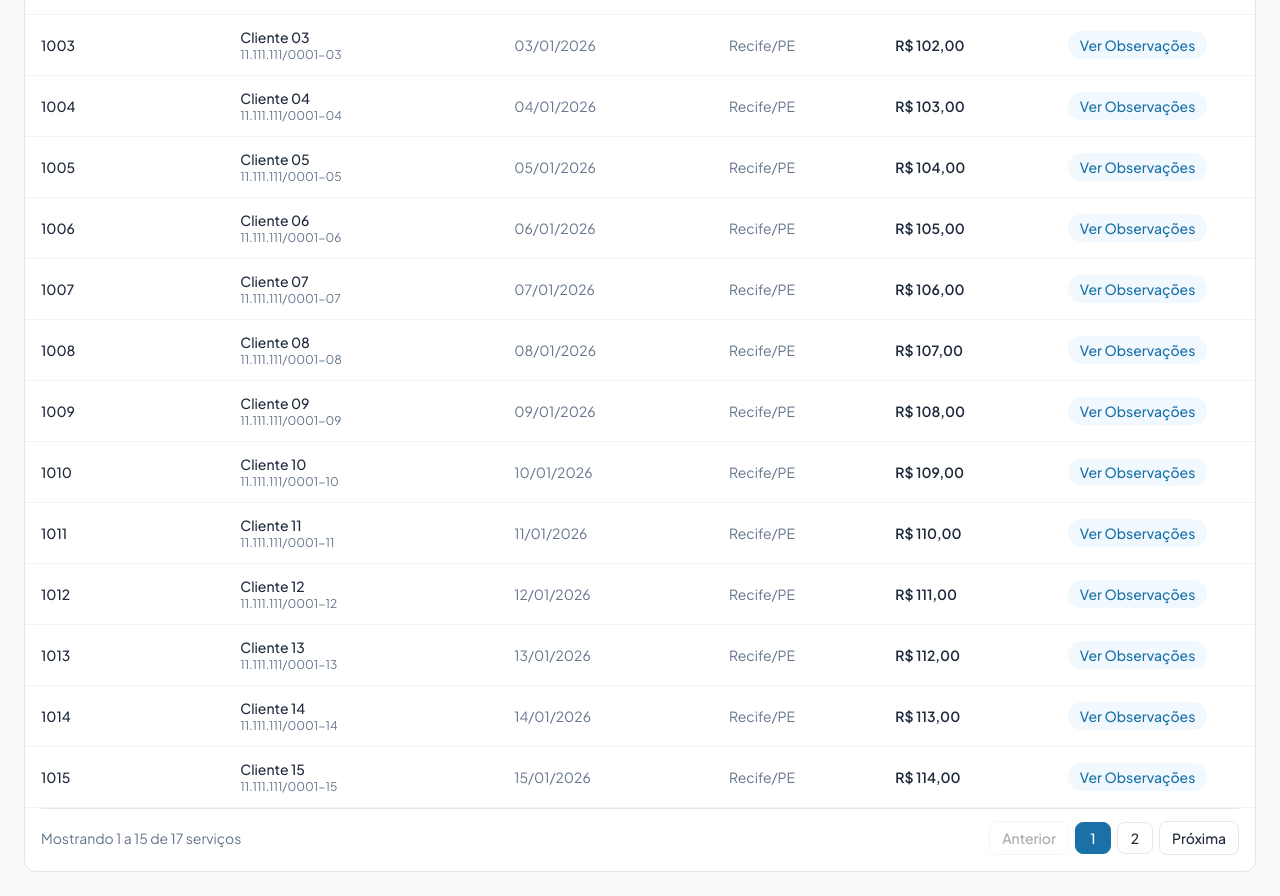
paginacao em Servicos › Proximo leva a segunda pagina, que tem o resto
(page scrolled)
Click the button "Próxima": (1199, 838) [1159,821,1239,855]
(page scrolled)
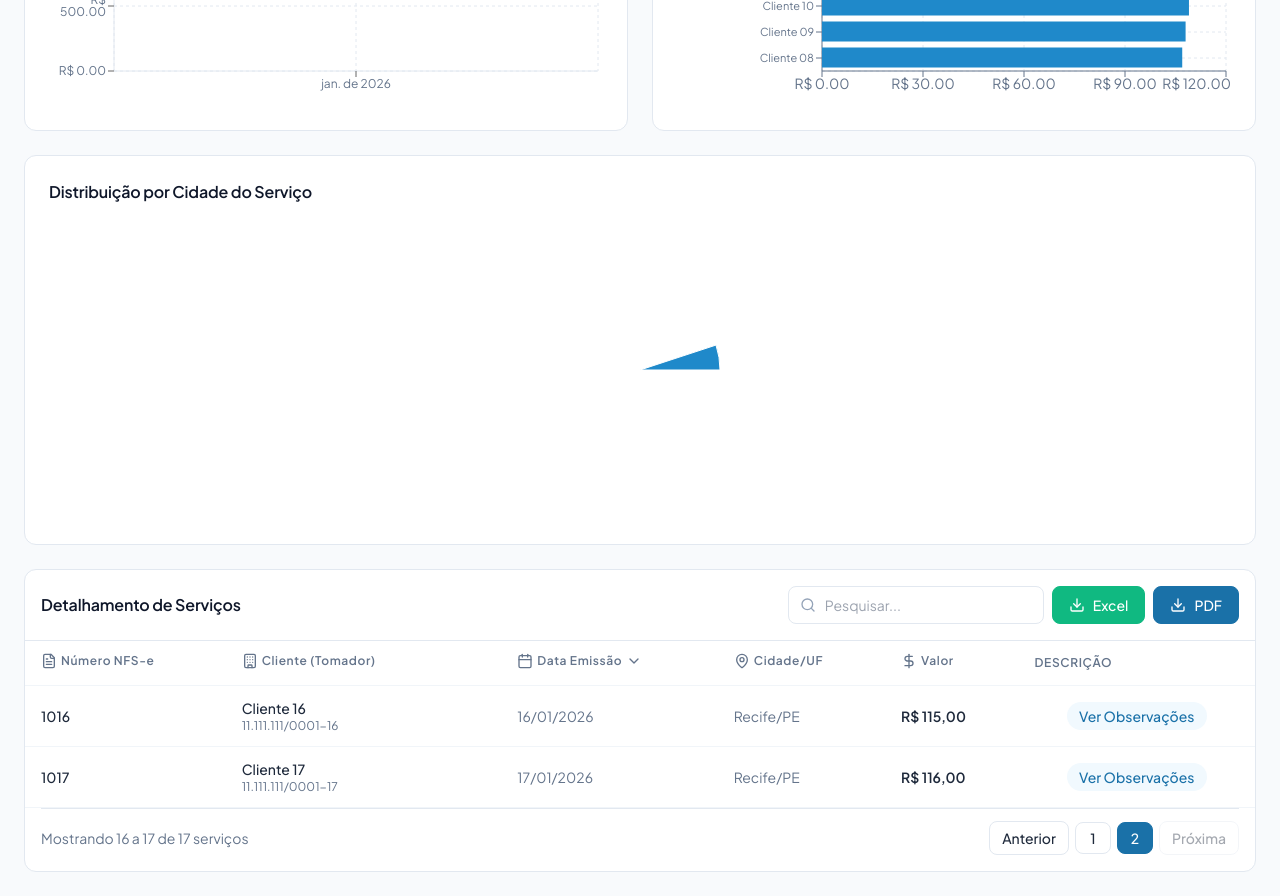
Result: the text "Mostrando 16 a 17 de 17 serviços" is shown at [41,828,249,848]
